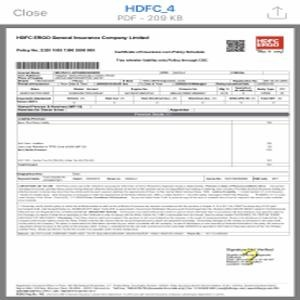image: (254, 33, 284, 51)
table: (14, 111, 290, 172), (15, 71, 290, 111)
text: (16, 182, 289, 232)
